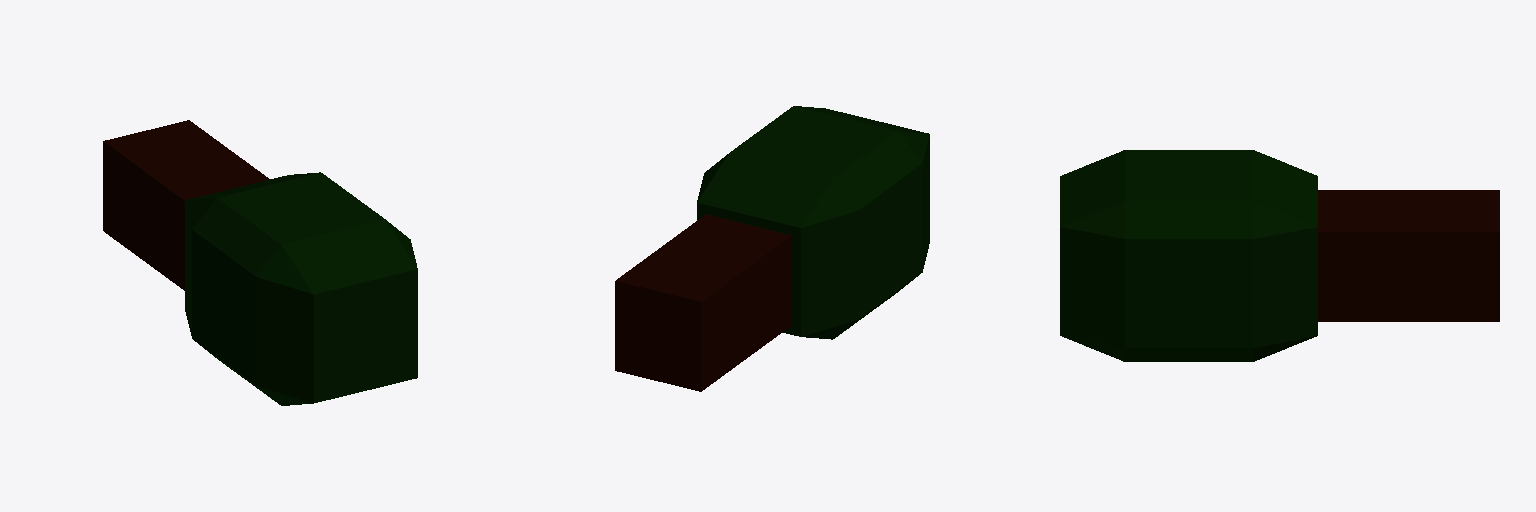
Rendered from apple_tree_50.obj.
The picture shows the model from 3 angles: view 1: azimuth 30°, elevation 25°; view 2: azimuth 150°, elevation 25°; view 3: azimuth 270°, elevation 25°; orthographic projection.
Visible parts, largest first — view 1: Cube; view 2: Cube; view 3: Cube.
Part boxes in pixels (bbox=[...]): Cube: bbox=[103, 120, 417, 405]; Cube: bbox=[615, 106, 929, 391]; Cube: bbox=[1060, 150, 1499, 361].
Size of the model in its own units: 1.79 by 1.79 by 4.42.